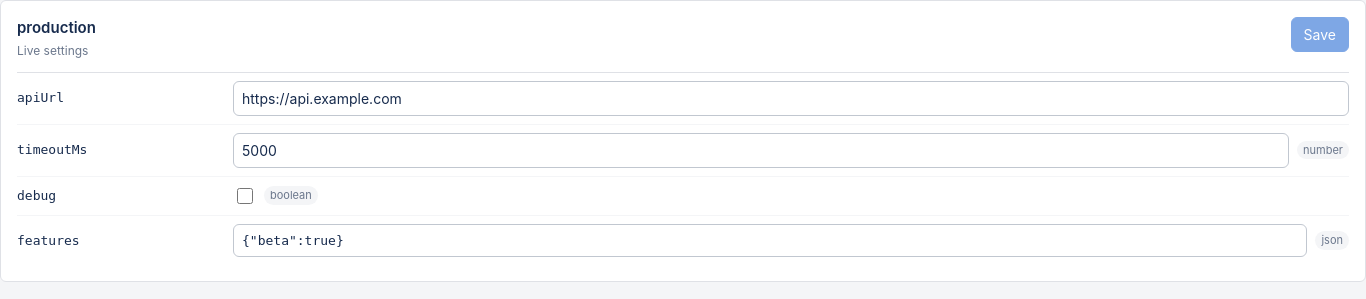
ConfigurationCard › keeps Save disabled until something changes
Expected: the button "Save" is disabled, [1291,17,1349,52]
In the field labelled "apiUrl": (791, 98) [233,80,1349,116], type "/v2"
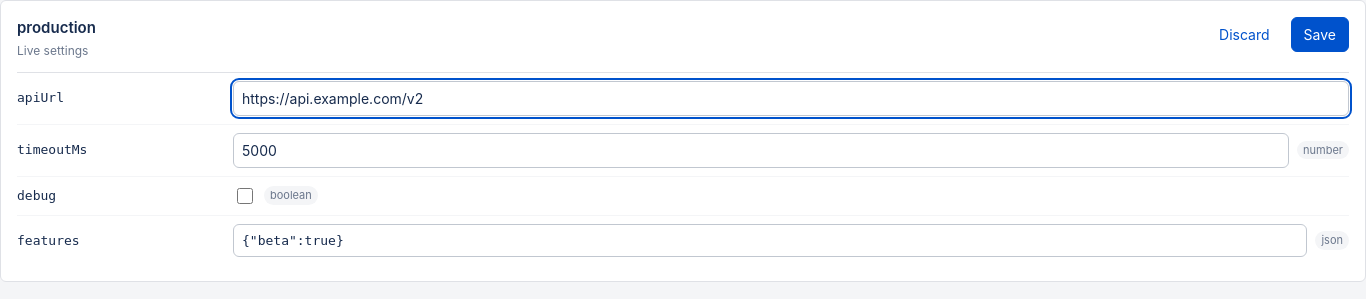
Expected: the button "Save" is enabled, [1291,17,1349,52]
